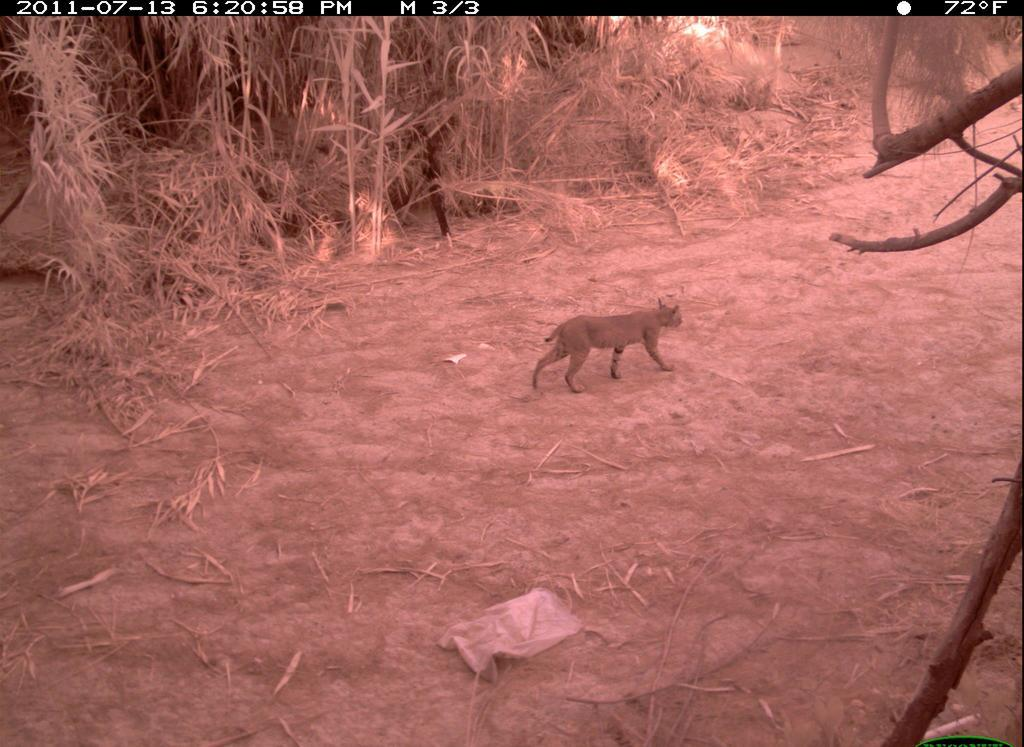bobcat: (521, 287, 692, 405)
